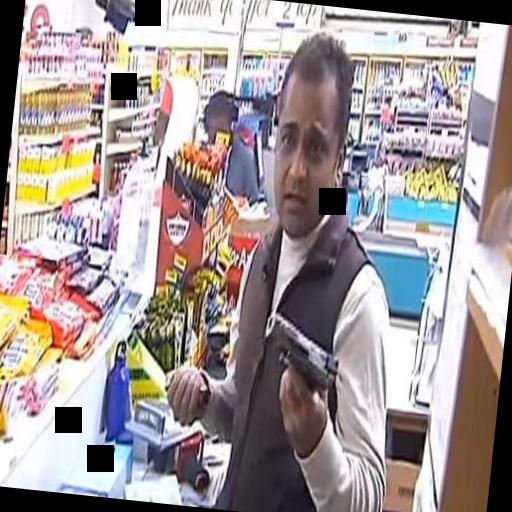Handgun: (256, 304, 348, 400)
